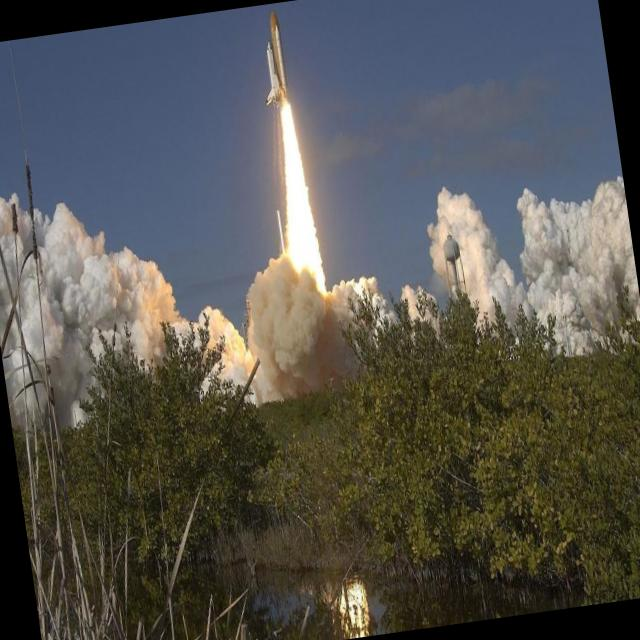rocket: (253, 8, 315, 202)
